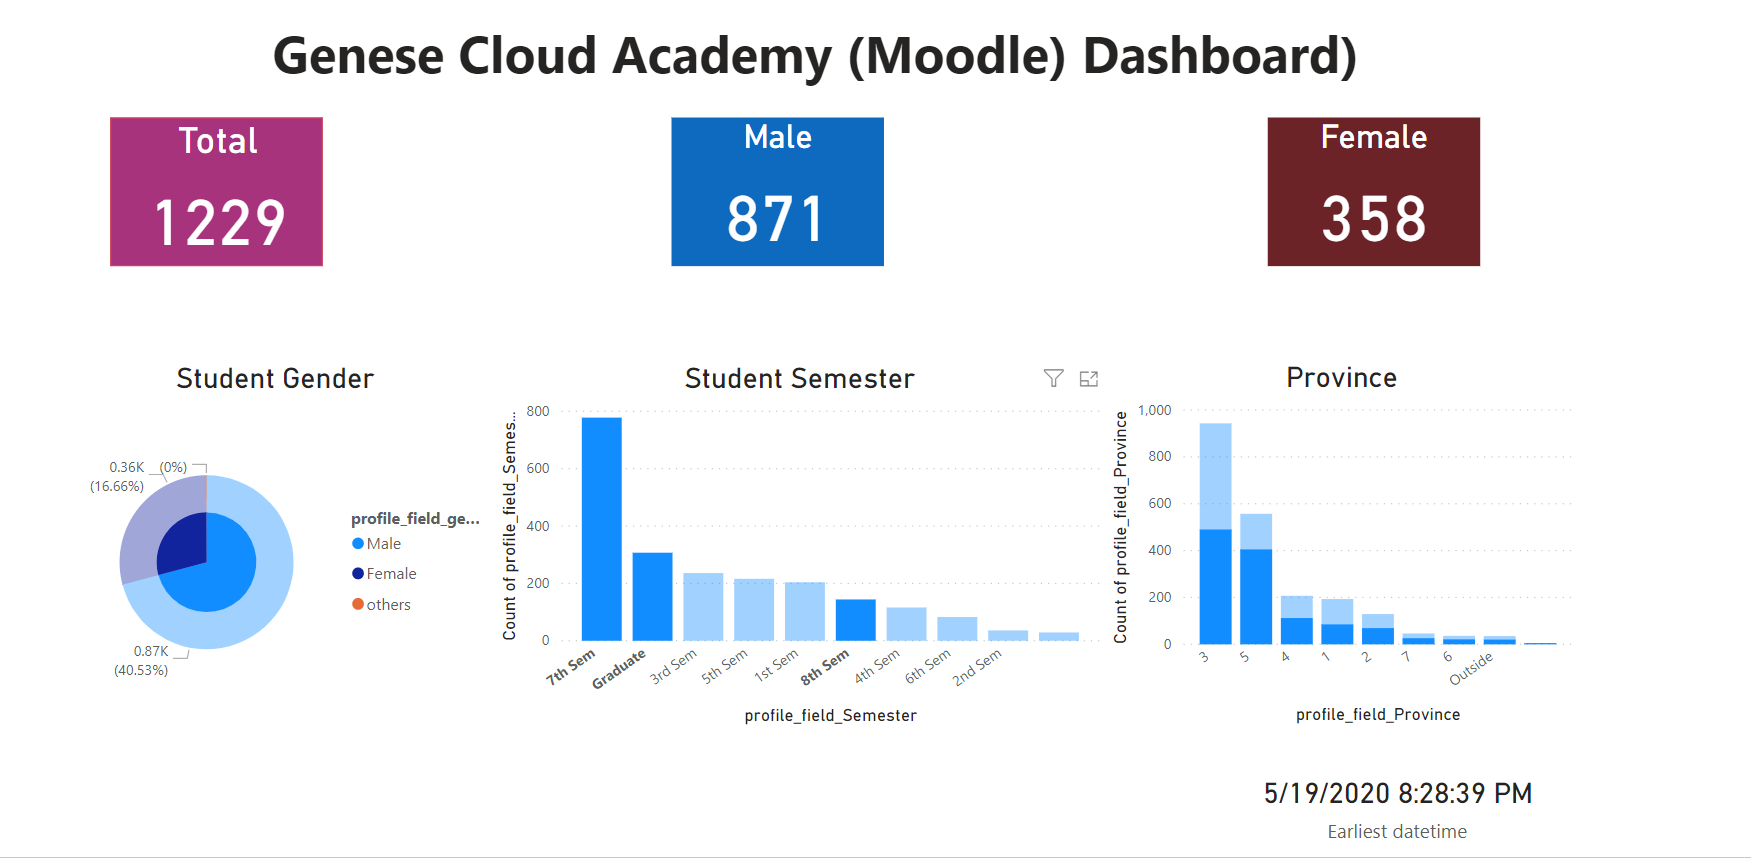

Layout of this report page (visuals, bound fields, positions):
{"tool":"powerbi","page":{"name":"Dashboard","canvas":[1280,720],"ordinal":0},"visuals":[{"type":"pieChart","title":"Student Gender","fields":{"Category":["user_latest.profile_field_gender1"],"Series":["user_latest.profile_field_gender1"],"Y":["CountNonNull(user_latest.profile_field_gender)"]},"box":[2.1,303.2,367.2,310.5],"z":0},{"type":"columnChart","title":"Student Semester","fields":{"Category":["user_latest.profile_field_Semester1"],"Y":["CountNonNull(user_latest.profile_field_Semester)1"]},"box":[369.4,303.2,513.4,310.5],"z":1000},{"type":"columnChart","title":"Province","fields":{"Category":["user_latest.profile_field_Province1"],"Y":["CountNonNull(user_latest.profile_field_Province)1"]},"box":[882.3,302.7,397.4,310.5],"z":2000},{"type":"card","title":"Total","fields":{"Values":["CountNonNull(user_latest.id)"]},"box":[47.1,98.8,178.8,124.4],"z":3000},{"type":"card","title":"Male","fields":{"Values":["CountNonNull(user_latest.profile_field_gender)"]},"box":[518.2,98.8,178.8,124.4],"z":4000},{"type":"card","title":"Female","fields":{"Values":["CountNonNull(user_latest.profile_field_gender)"]},"box":[1019.5,98.8,178.8,124.4],"z":5000},{"type":"textbox","box":[0,10.9,1279.3,72.5],"z":6000},{"type":"card","fields":{"Values":["Min(Kathmandu.datetime)"]},"box":[994.2,641.5,268.2,68.9],"z":7000}]}

Visuals, with their boxes on the page's 1280x720 design canvas (x1, y1, x2, y2). These are canvas units, not pixel positions in the 1751x858 screenshot, which may show the page scaled, cropped or inside an application window:
"Student Gender" pieChart: Rect(2, 303, 369, 614)
"Student Semester" columnChart: Rect(369, 303, 883, 614)
"Province" columnChart: Rect(882, 303, 1280, 613)
"Total" card: Rect(47, 99, 226, 223)
"Male" card: Rect(518, 99, 697, 223)
"Female" card: Rect(1020, 99, 1198, 223)
textbox: Rect(0, 11, 1279, 83)
card - Min(Kathmandu.datetime): Rect(994, 642, 1262, 710)
